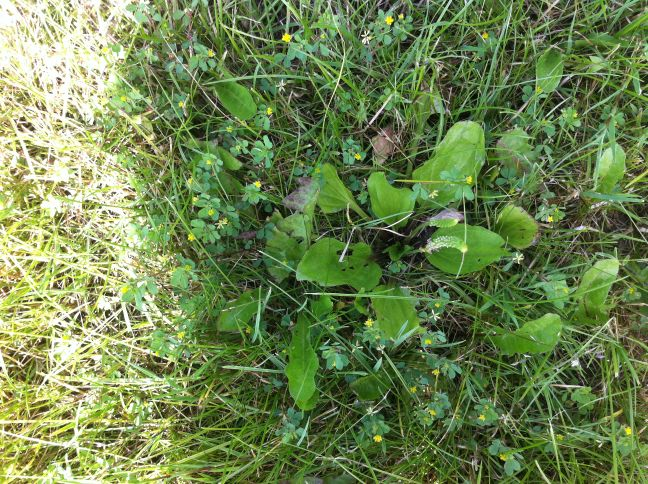weed1: (299, 118, 541, 348)
